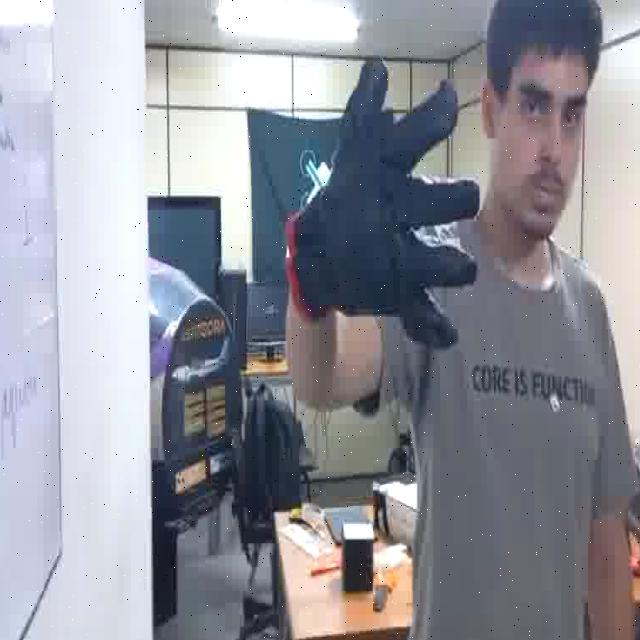Gloves: (282, 48, 488, 358)
